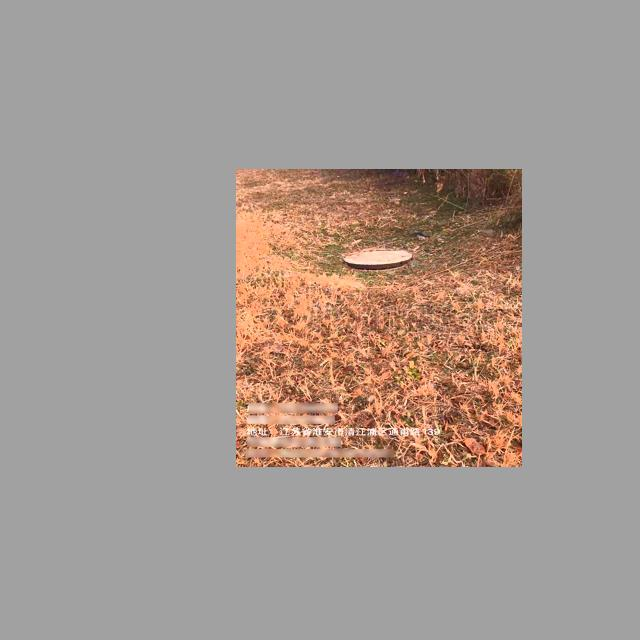uncovered: (344, 249, 413, 271)
